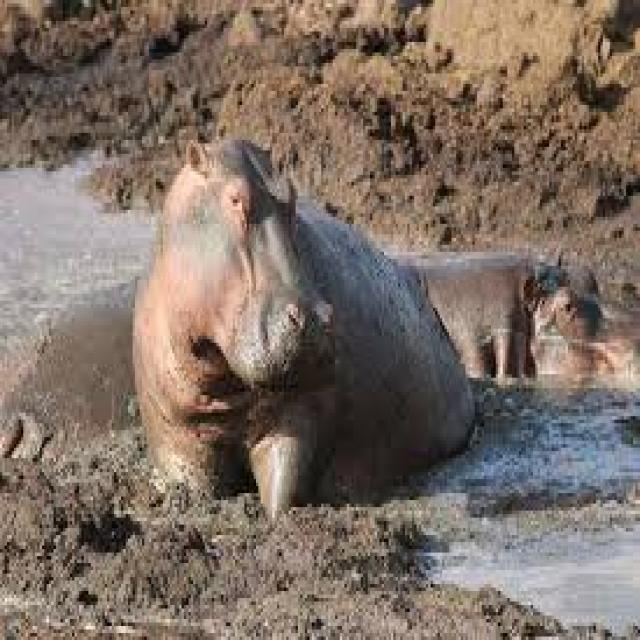Hippopotamus: (132, 132, 478, 509)
